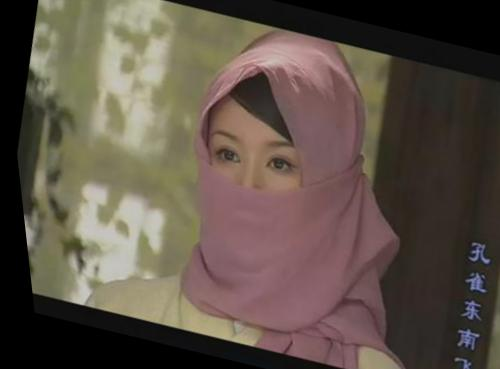WRONG: (172, 116, 340, 271)
